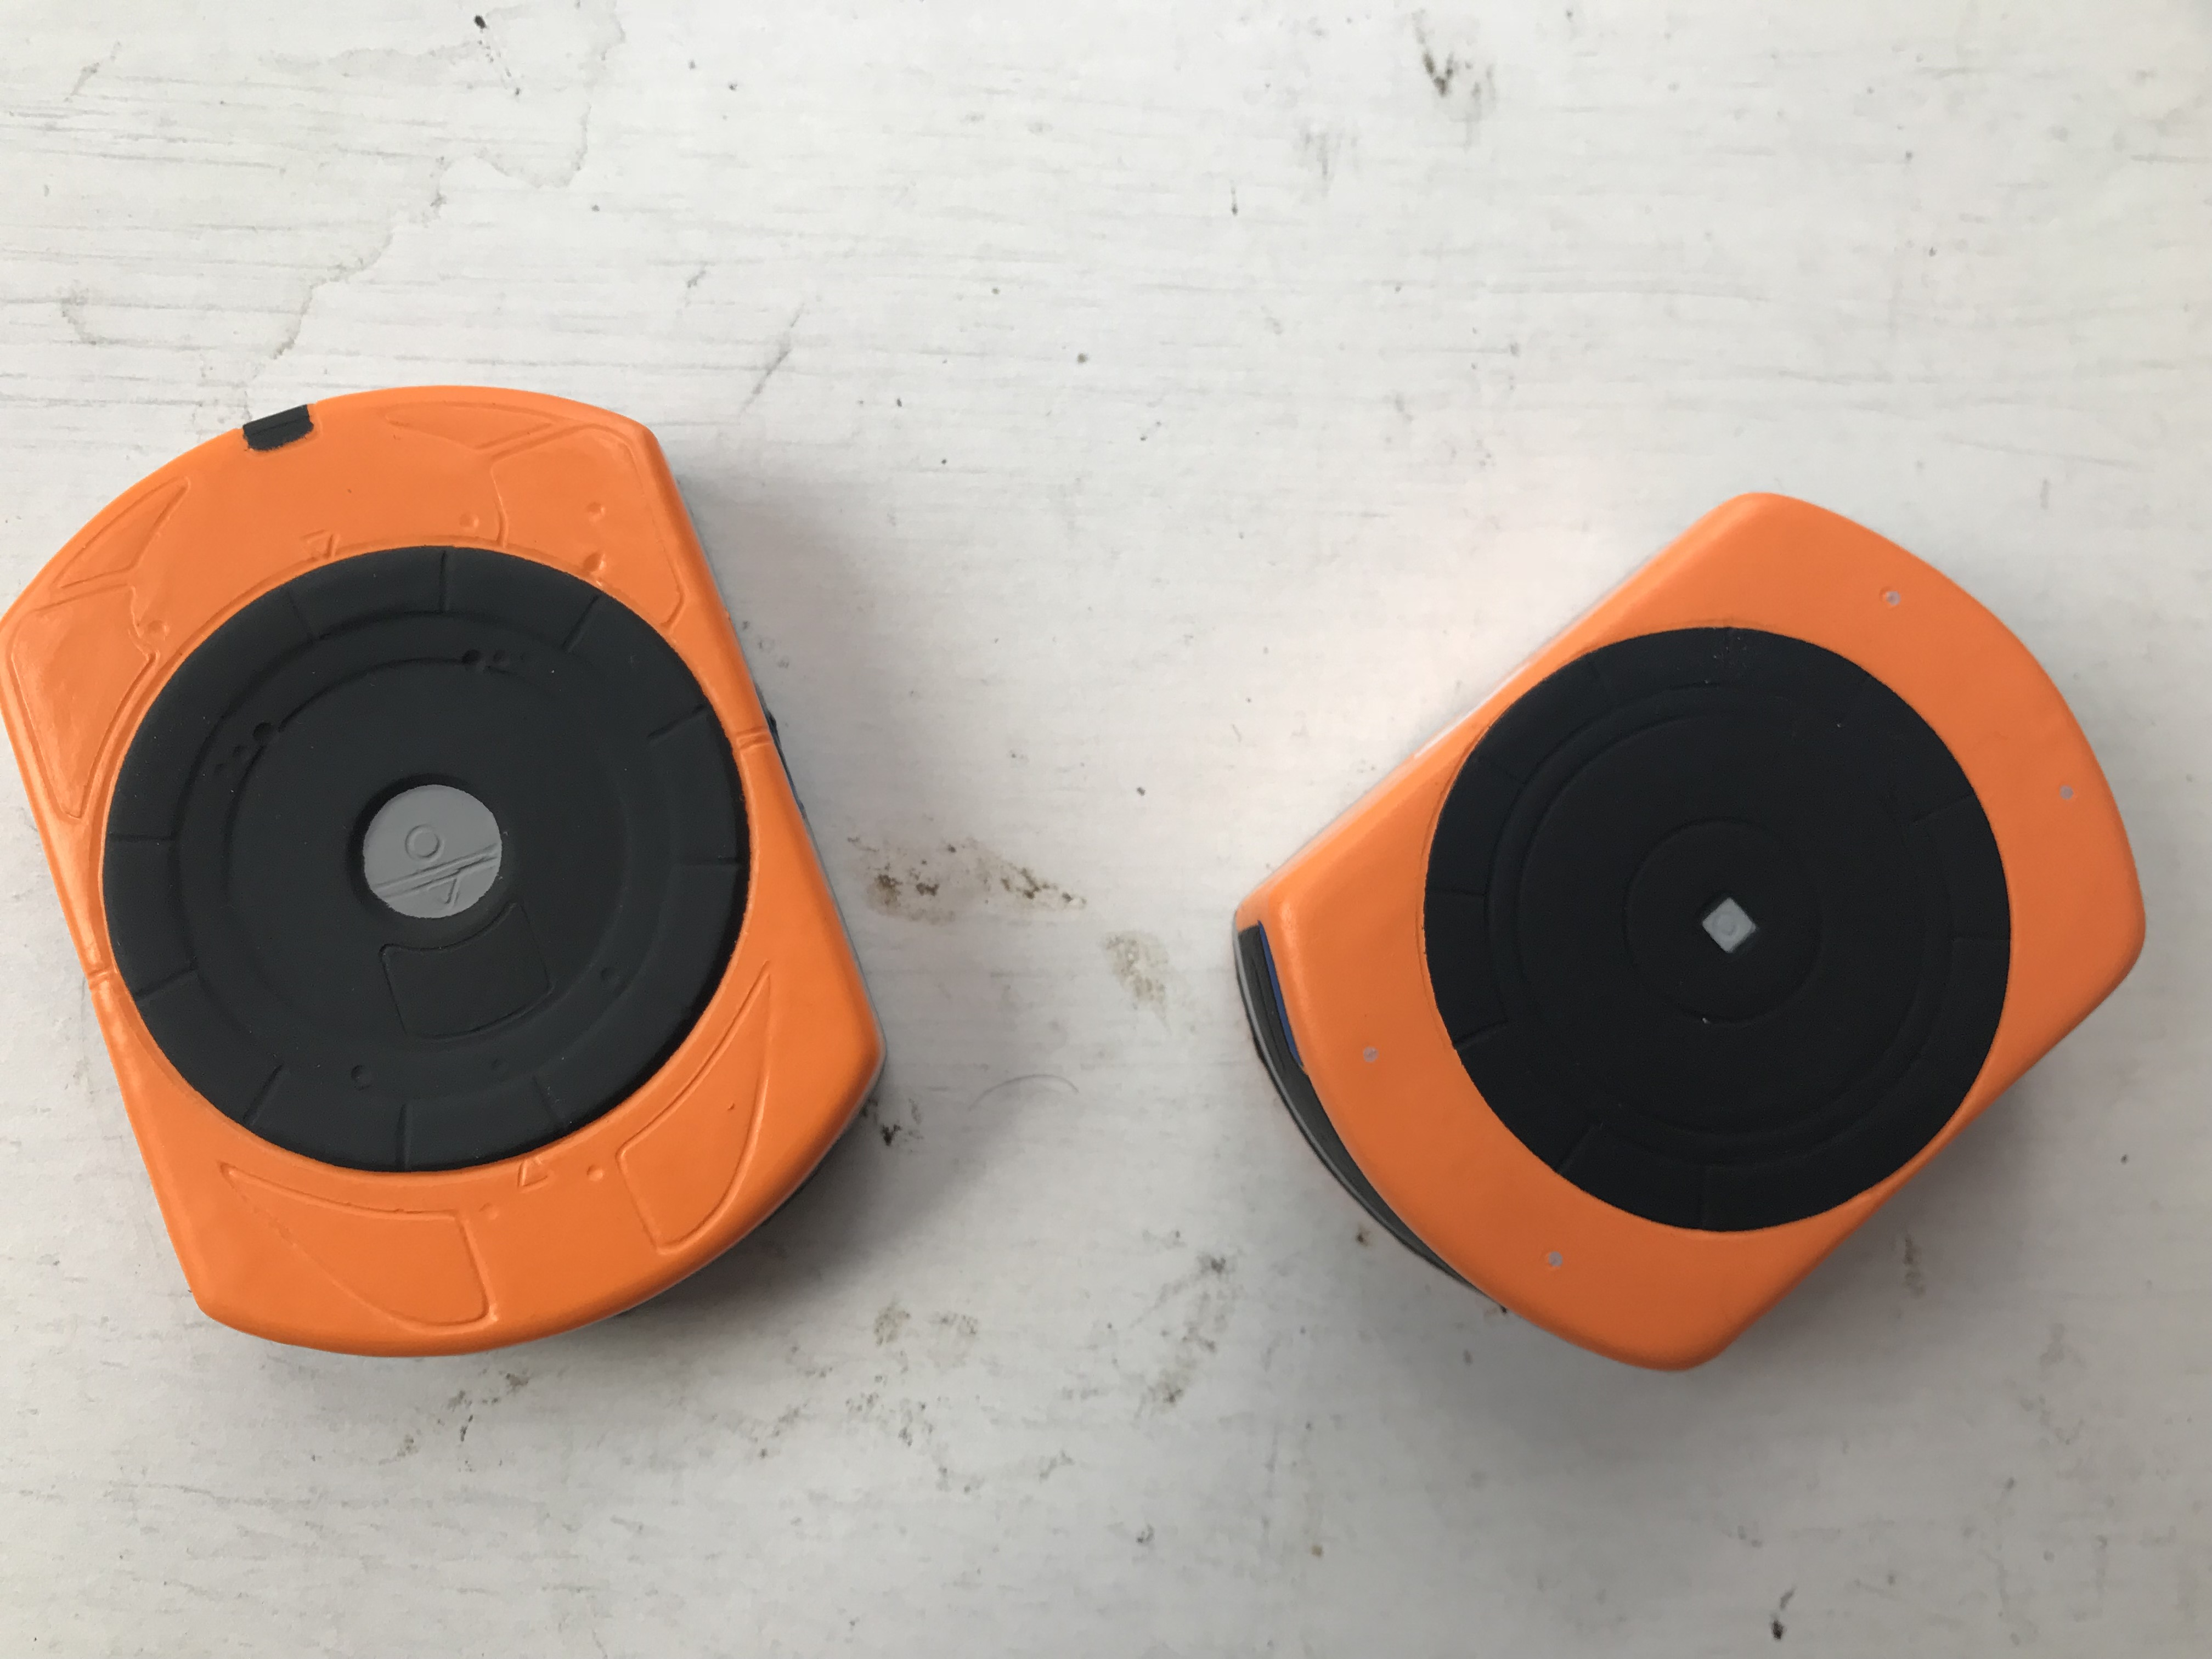amazon_bot: (2, 376, 895, 1377), (1221, 486, 2165, 1385)
